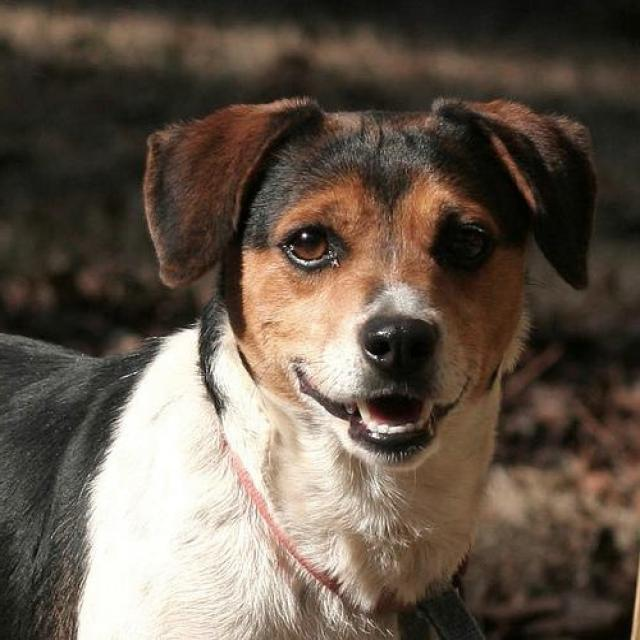beagle: (2, 95, 596, 637)
